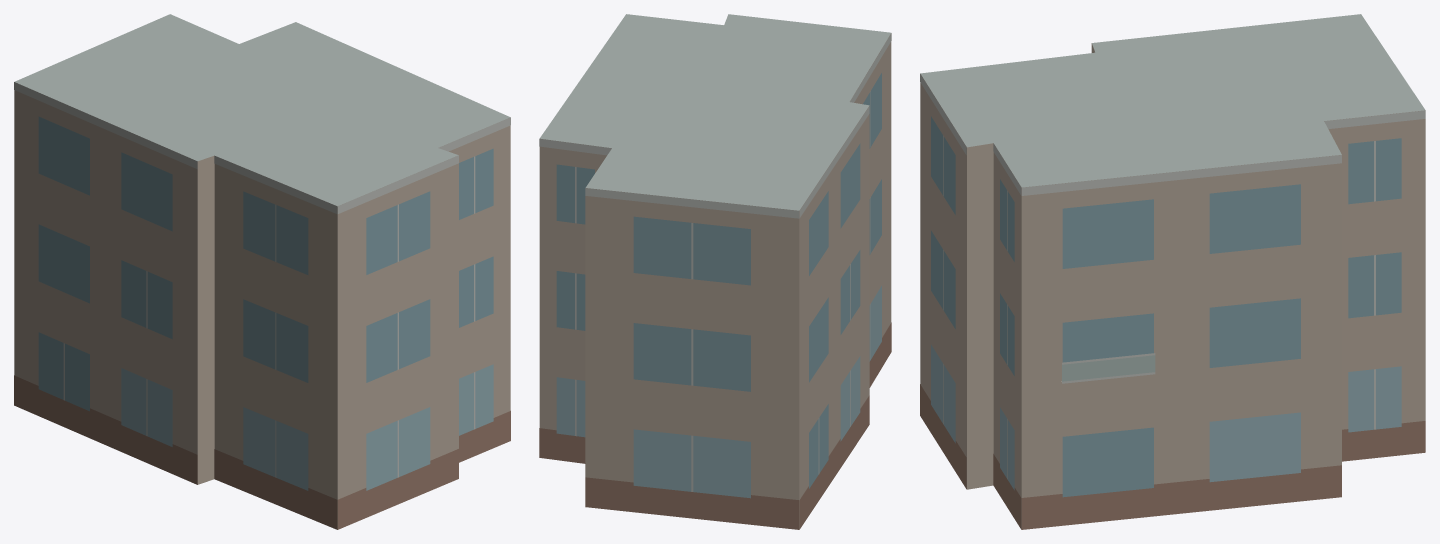
The model's file is survey-upis-32728030.glb.
The picture shows the model from 3 angles, left to right: view 1: azimuth 30°, elevation 25°; view 2: azimuth 150°, elevation 25°; view 3: azimuth 270°, elevation 25°; orthographic projection. The views are drawn at different scales.
Visible parts, largest first — view 1: survey-upis-32728030.tmp; view 2: survey-upis-32728030.tmp; view 3: survey-upis-32728030.tmp.
Boxes of the visible parts, x1=… form: survey-upis-32728030.tmp: x1=14, y1=14, x2=510, y2=529; survey-upis-32728030.tmp: x1=539, y1=14, x2=891, y2=529; survey-upis-32728030.tmp: x1=920, y1=14, x2=1425, y2=529.
Bounding box in the file's own units: 10.66 × 9.8 × 13.12.
